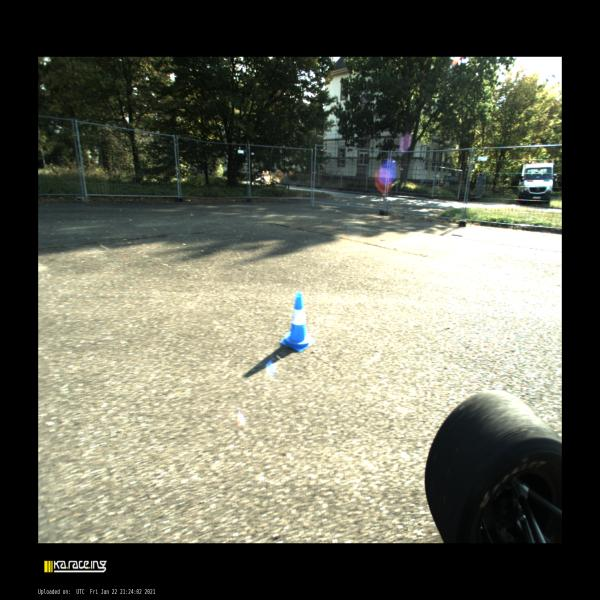blue_cone: (280, 291, 315, 352)
